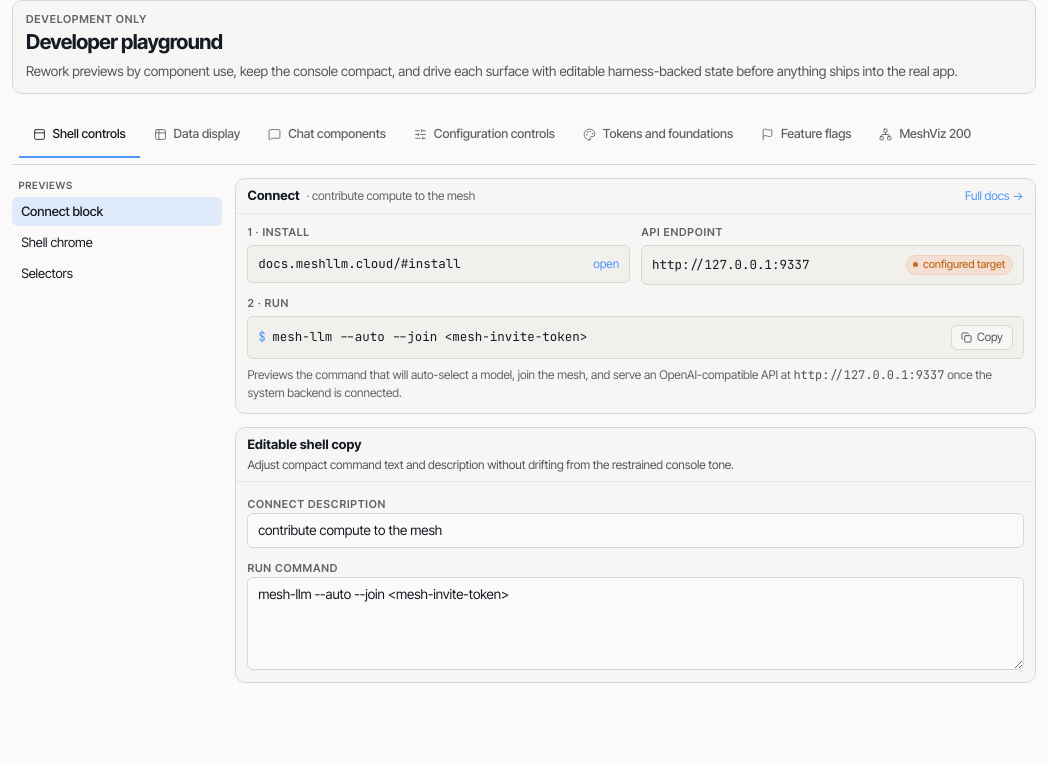
Test case: DeveloperPlaygroundPage › groups configuration section flags in the feature flag playground
Click the tab "Feature flags".
click(806, 136)  # box [747,114,865,158]
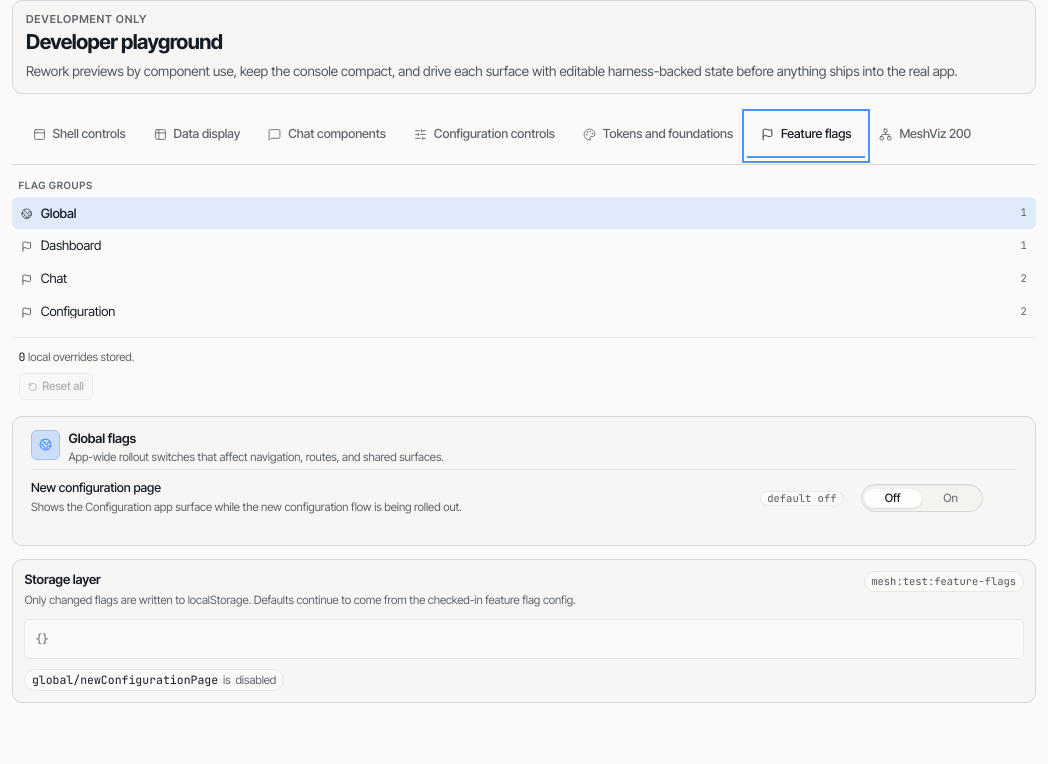
Click the button "Configuration 2".
click(78, 311)  # box [12,296,1036,327]
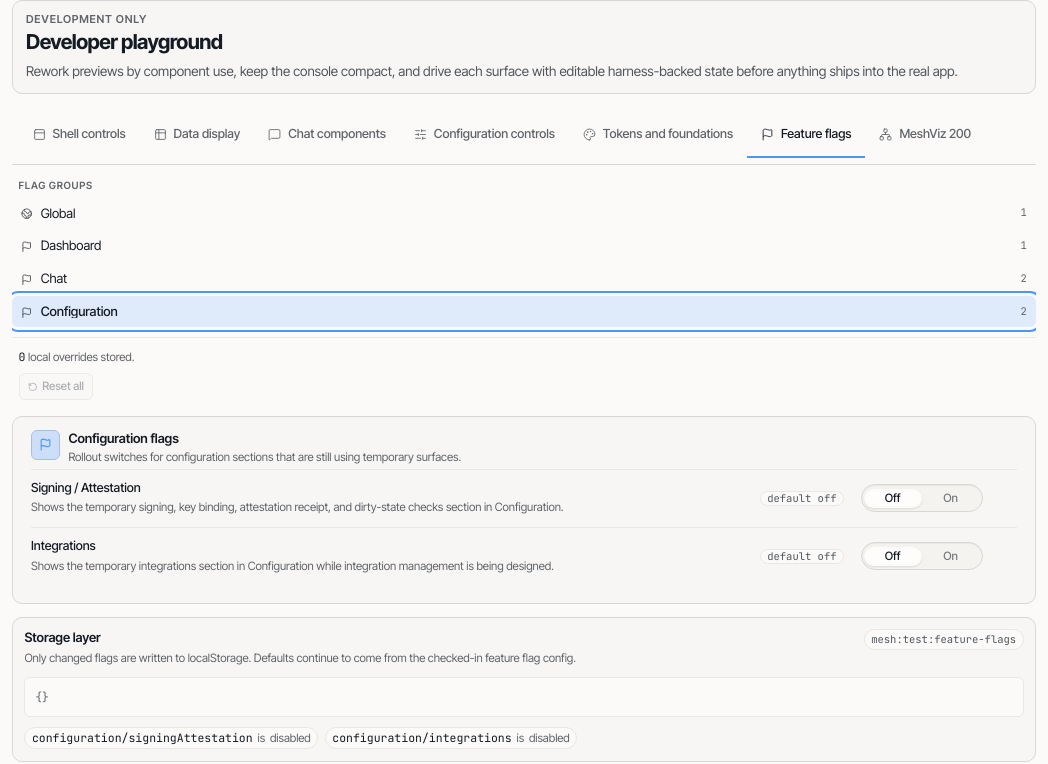
Expected: the text "Rollout switches for configuration sections" is shown, [68,450,461,464]
Expected: the text "Shows the temporary signing, key binding" is shown, [31,500,564,514]
Expected: the text "Shows the temporary integrations section" is shown, [31,558,554,572]
Click the radio button labelled "On" in the row of "Signing / Attestation".
click(950, 498)  # box [922,489,980,508]
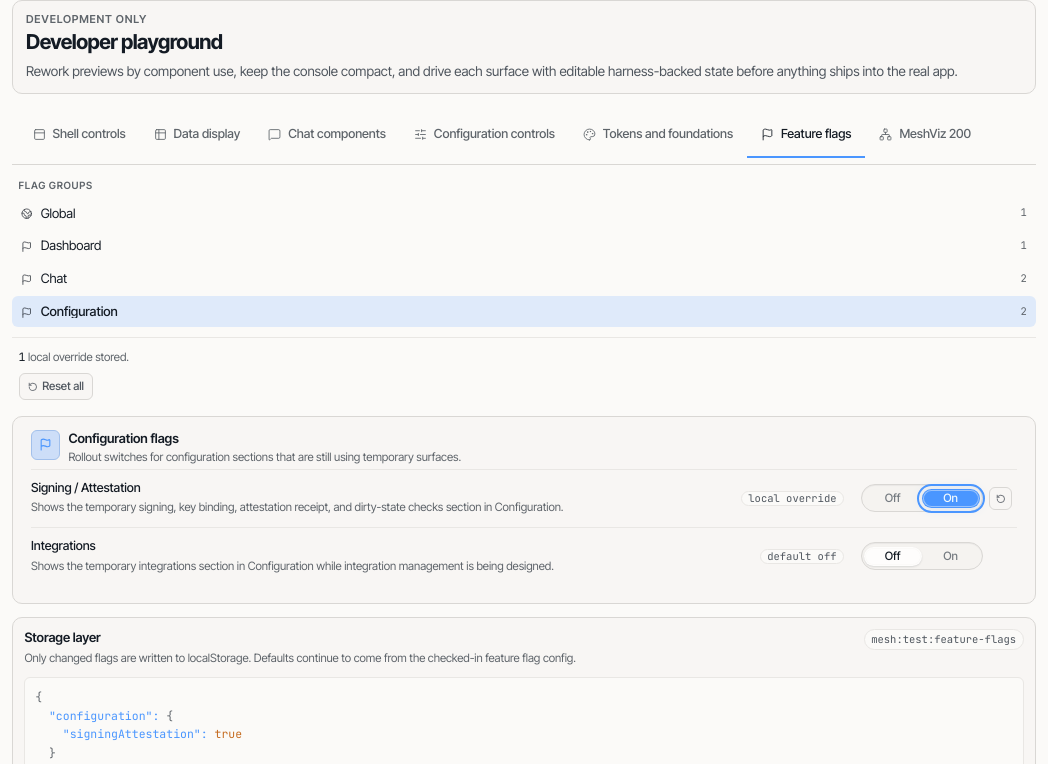
Expected: the button named "reset signing / attestation" is shown, [989,487,1012,510]
